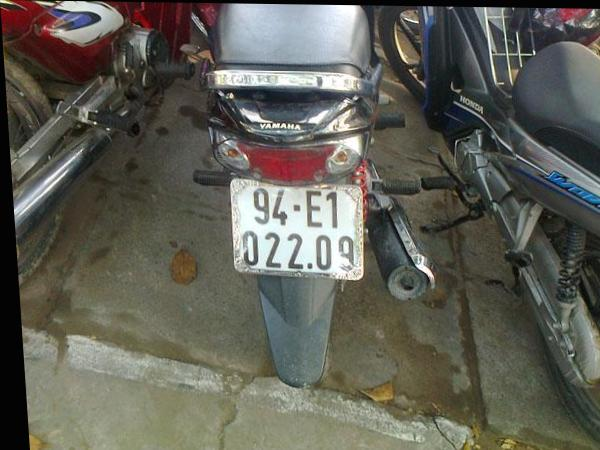License_Plate: (233, 180, 359, 278)
